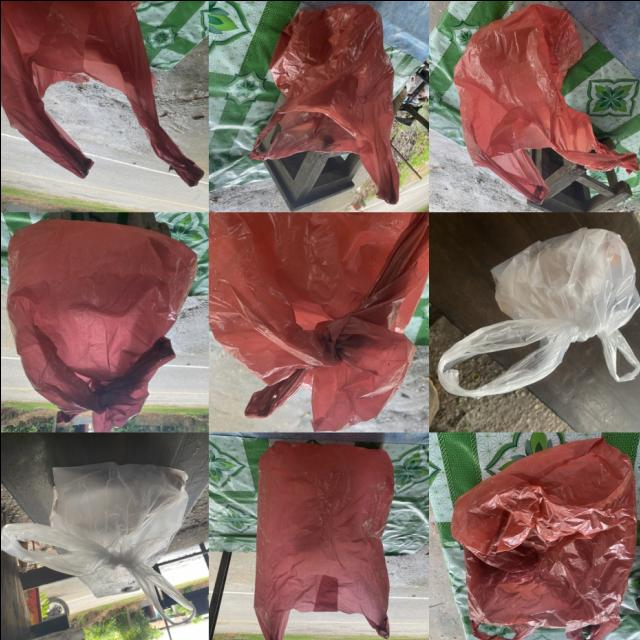plastik: (210, 212, 428, 430), (7, 219, 195, 431), (0, 0, 203, 186), (450, 438, 635, 640), (453, 5, 638, 203), (437, 227, 640, 398), (0, 461, 195, 625), (250, 3, 398, 203), (253, 440, 393, 640)
